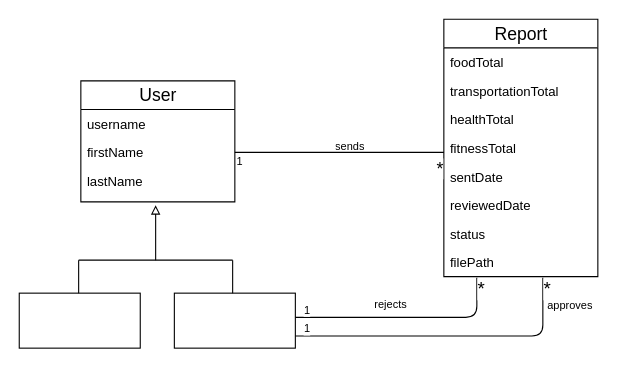
Image size: 617x367. Some labels were removed from this diagram. The shapes that lost their labels are listed below. From the top down, each one's centre as x and y in pixels, then its label:
point 79,320: Default
point 234,320: Administrator
